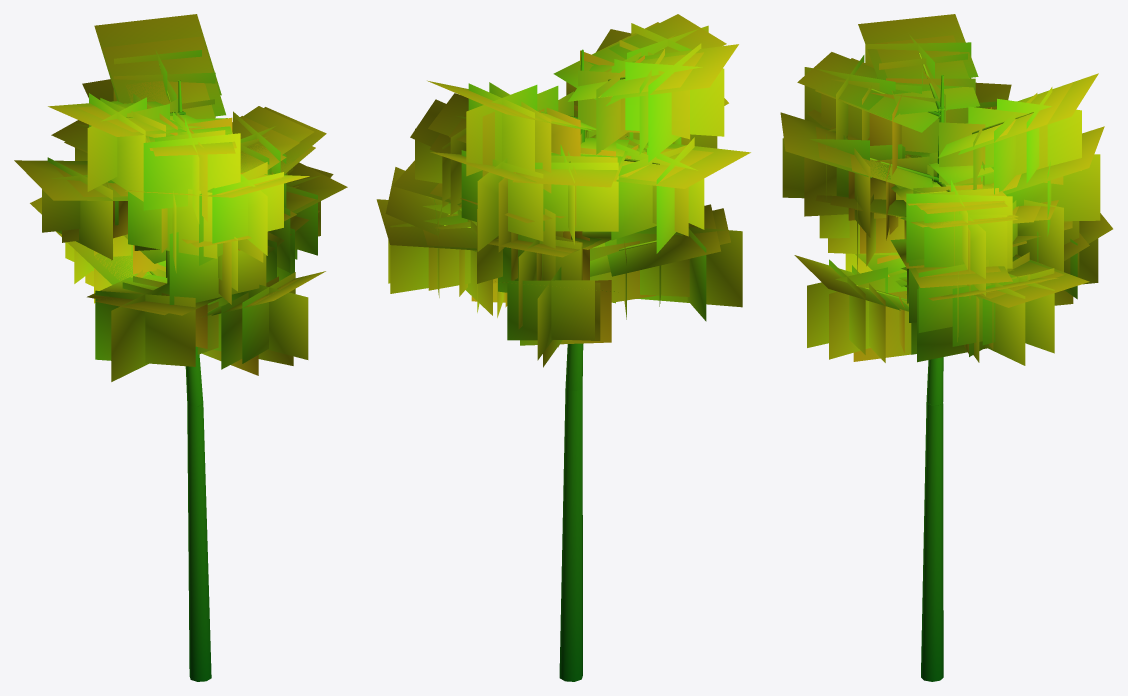
Rendered from SM_Pine_A.fbx.
The picture shows the model from 3 angles, left to right: view 1: azimuth 30°, elevation 25°; view 2: azimuth 150°, elevation 25°; view 3: azimuth 270°, elevation 25°; orthographic projection. The views are drawn at different scales.
Visible parts, largest first — view 1: SM_Pine_A; view 2: SM_Pine_A; view 3: SM_Pine_A.
Part boxes in pixels (x1=…): SM_Pine_A: x1=14, y1=14, x2=347, y2=681; SM_Pine_A: x1=376, y1=14, x2=750, y2=681; SM_Pine_A: x1=780, y1=14, x2=1112, y2=681.
Bounding box in the file's own units: 933 × 879 × 1731.
